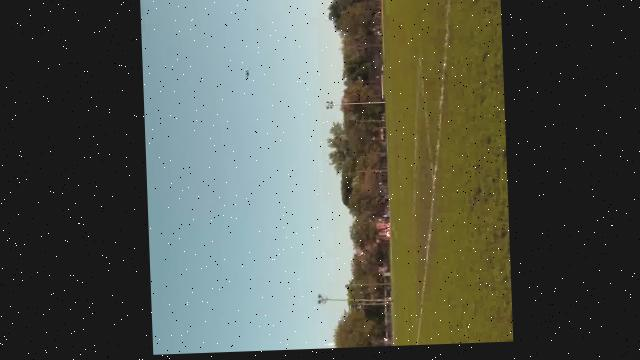drone: (237, 65, 252, 83)
